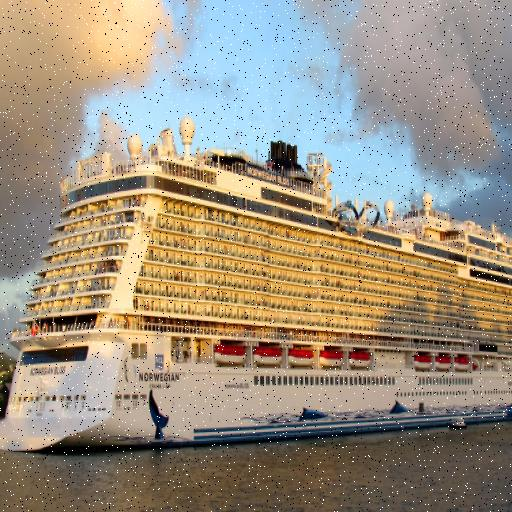cruises: (1, 106, 512, 460)
